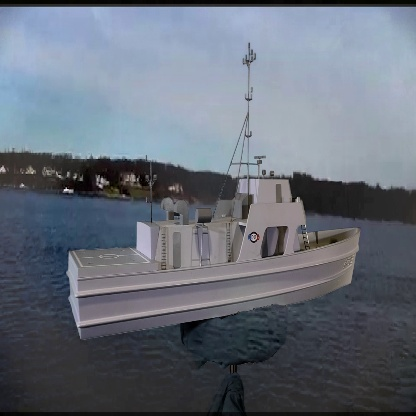YP689: (65, 41, 361, 343)
